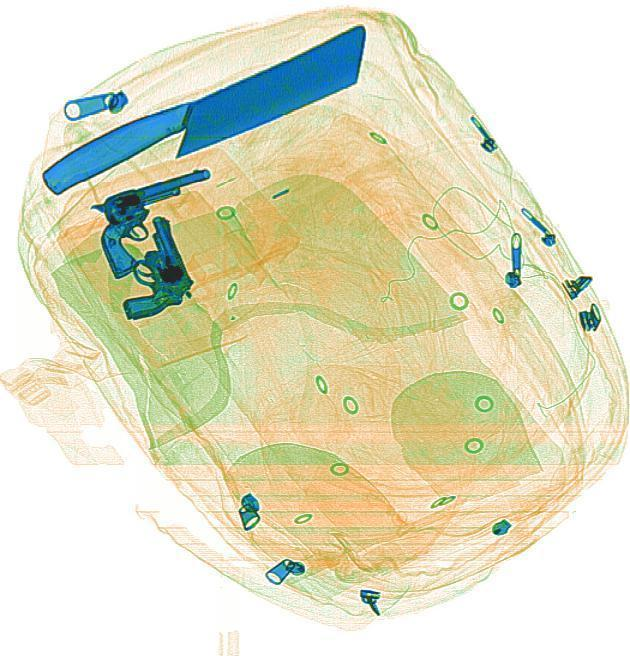Gun: (83, 165, 233, 280), (92, 210, 200, 324)
Knife: (29, 21, 386, 207)
